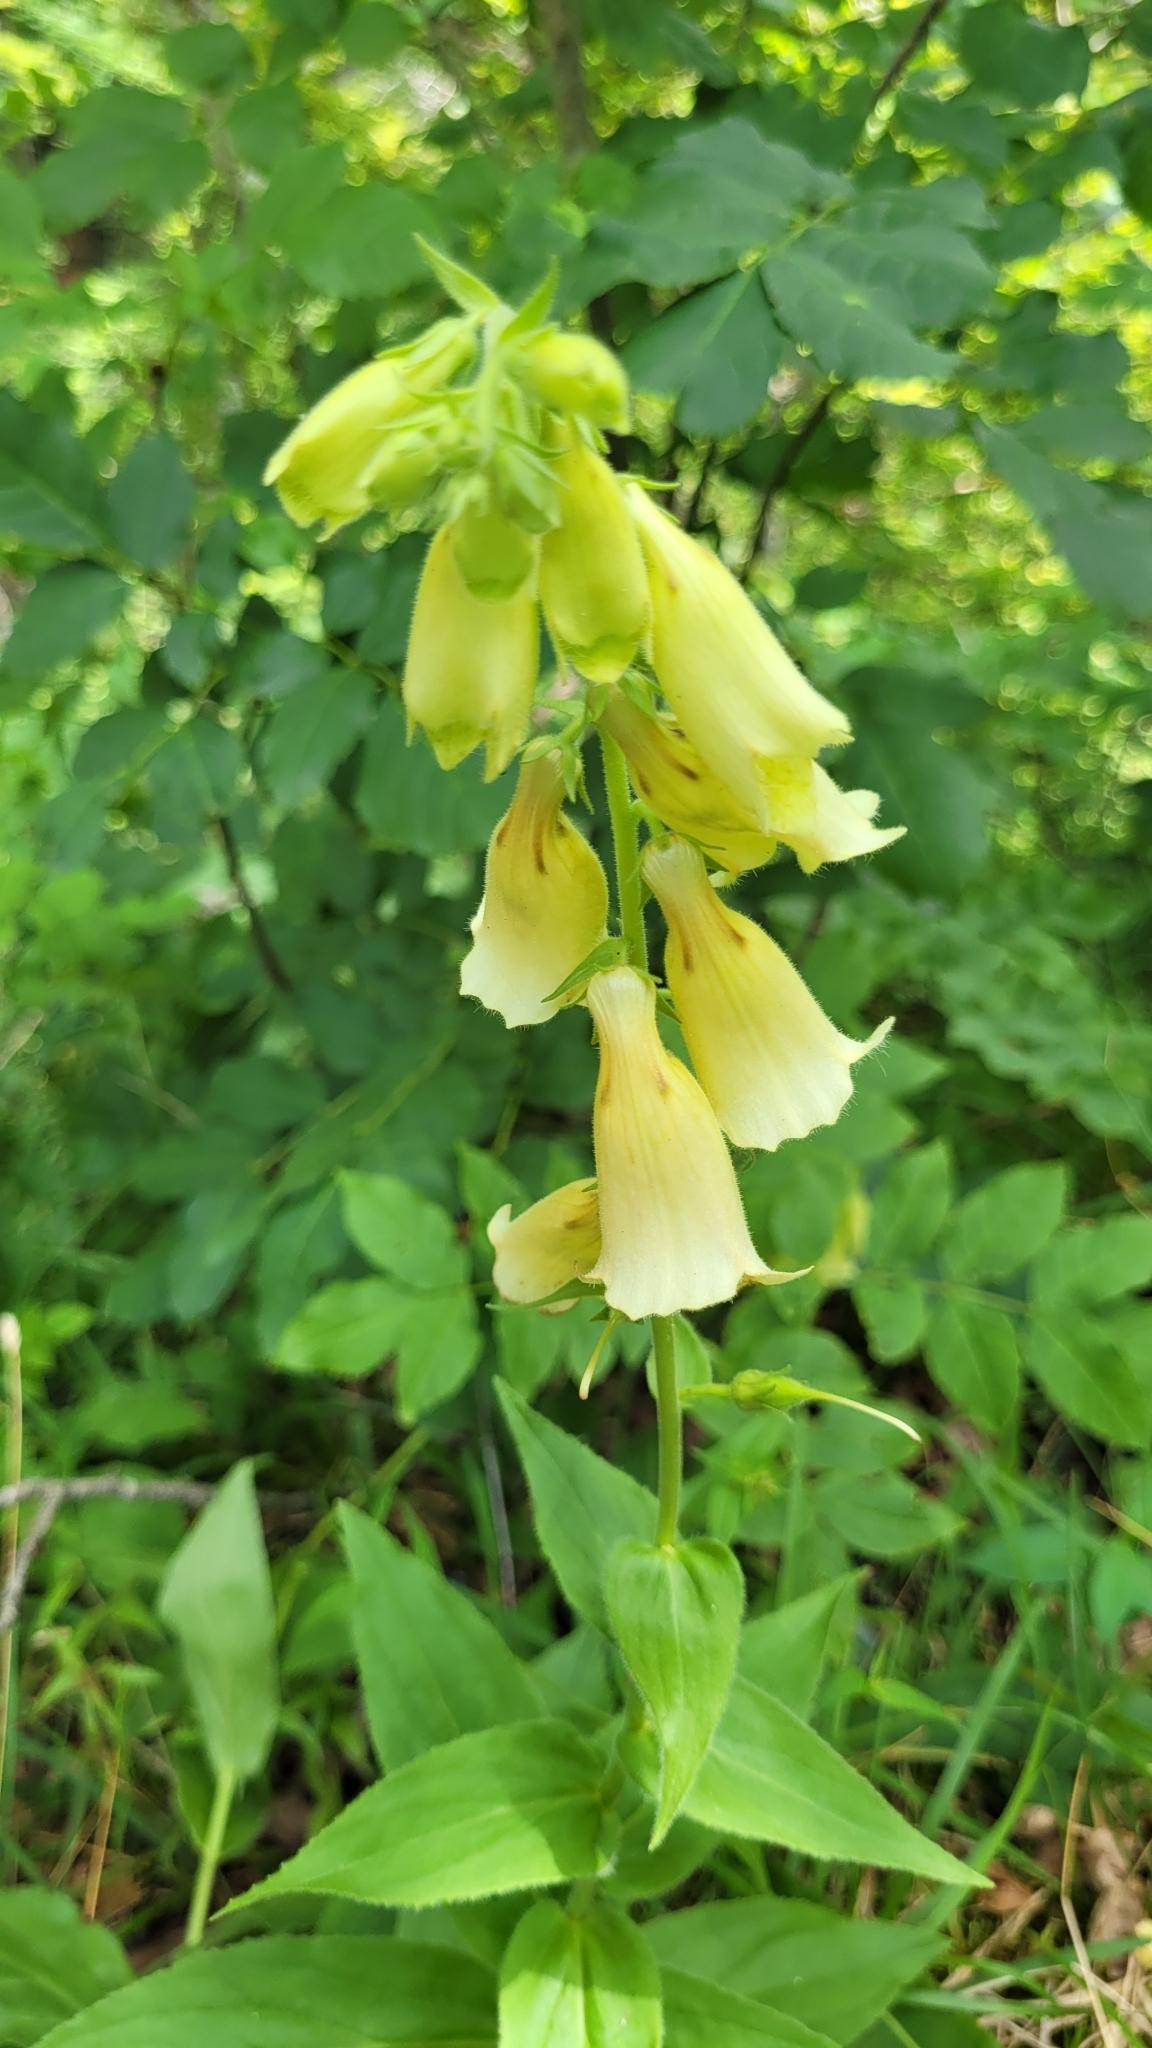Digitalis L: (226, 242, 972, 2023)
